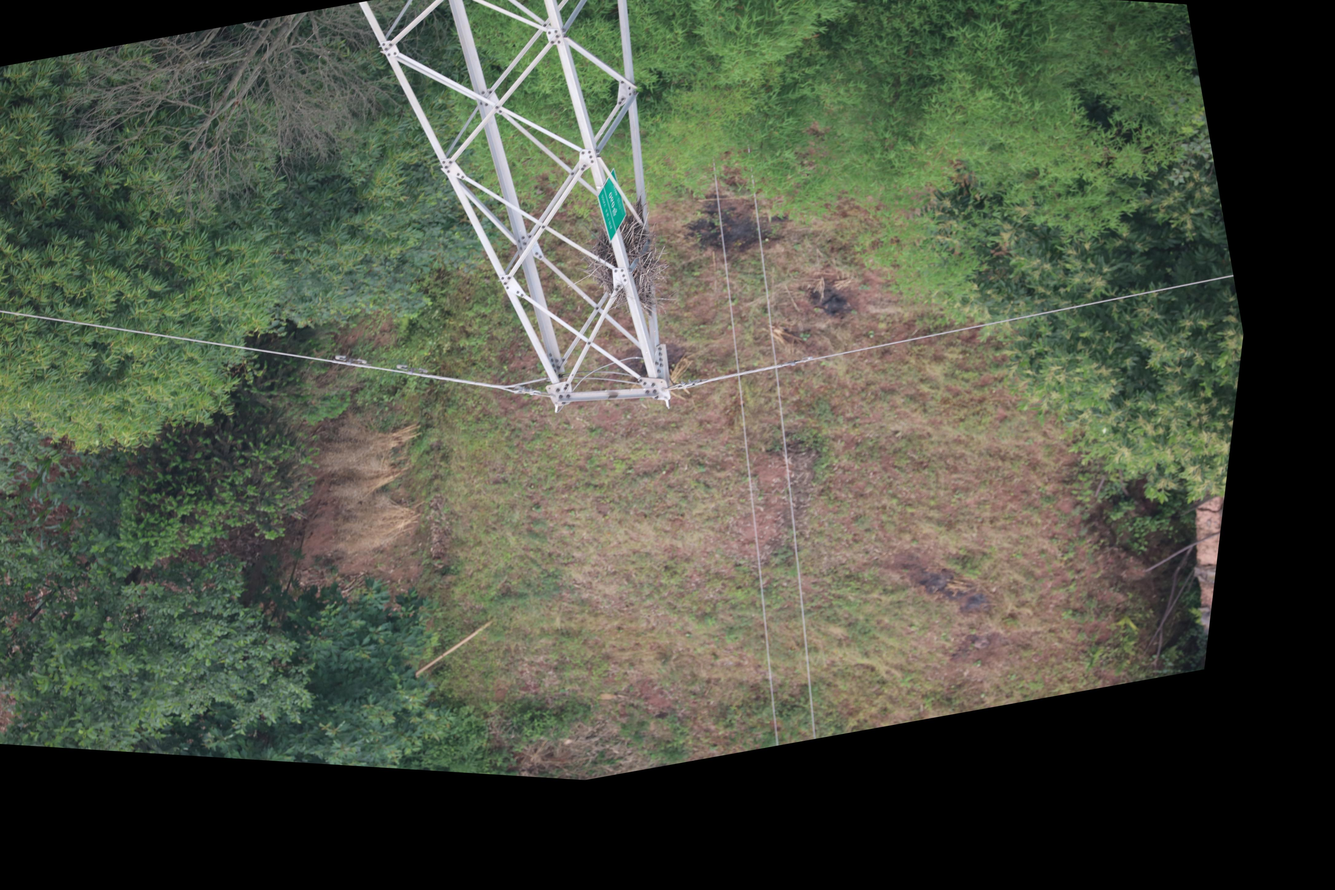damper: (329, 346, 372, 375), (391, 356, 433, 384)
